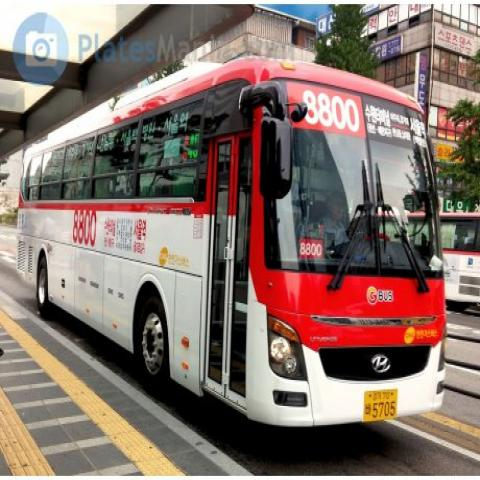LP: (357, 380, 409, 436)
